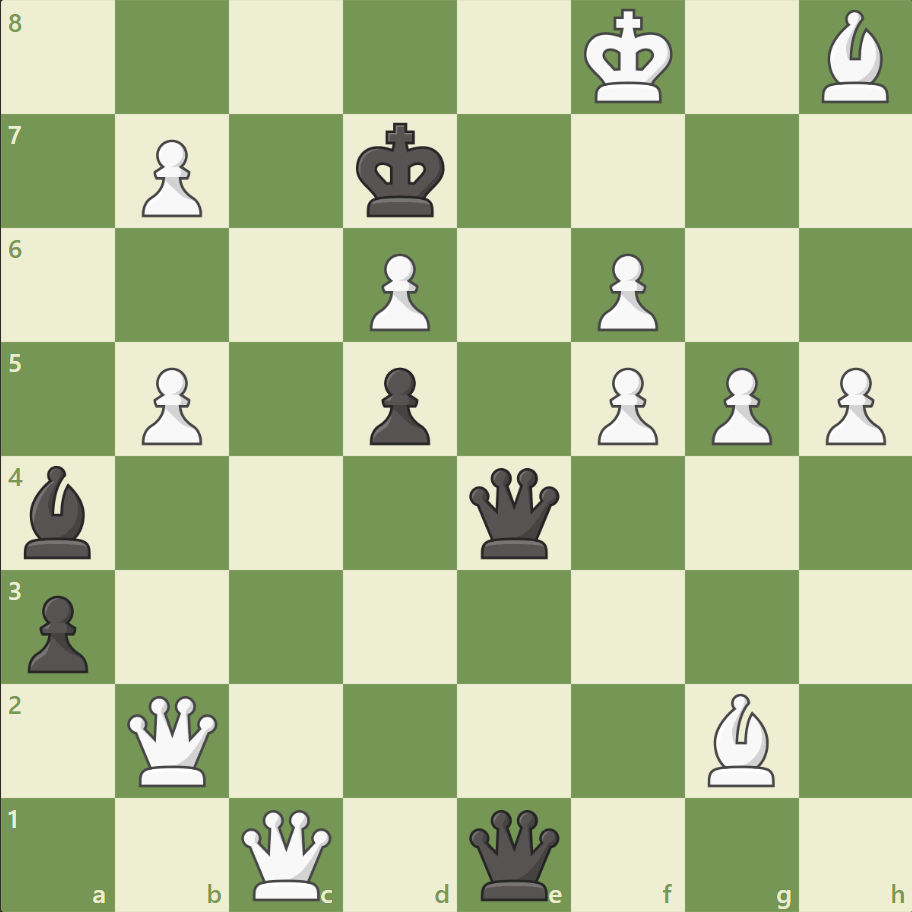B: (812, 6, 896, 109), (698, 687, 782, 790)
K: (579, 4, 679, 112)
P: (133, 132, 208, 223), (133, 359, 208, 450), (701, 359, 776, 450), (361, 246, 435, 337), (588, 246, 662, 337), (588, 359, 662, 450), (815, 359, 889, 450)
Q: (124, 690, 223, 789), (237, 804, 336, 903)
b: (17, 460, 101, 563)
k: (351, 117, 451, 225)
p: (20, 586, 95, 677), (361, 359, 435, 450)
q: (464, 463, 563, 562), (464, 804, 563, 903)
